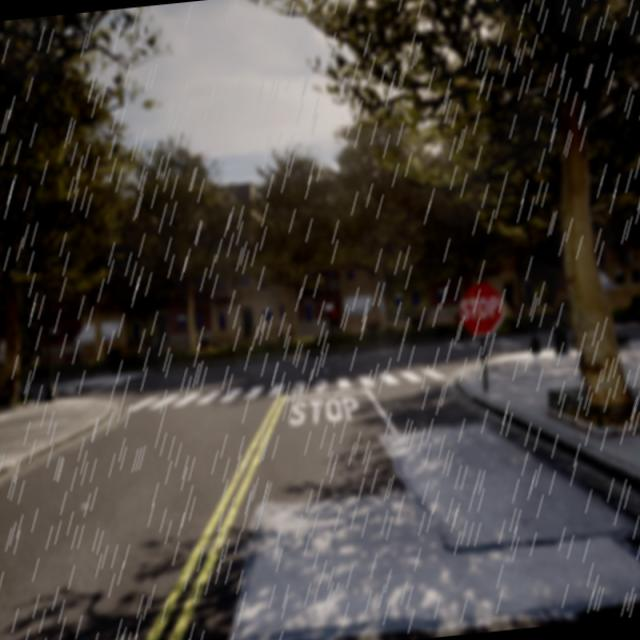stop sign: (456, 278, 506, 339)
